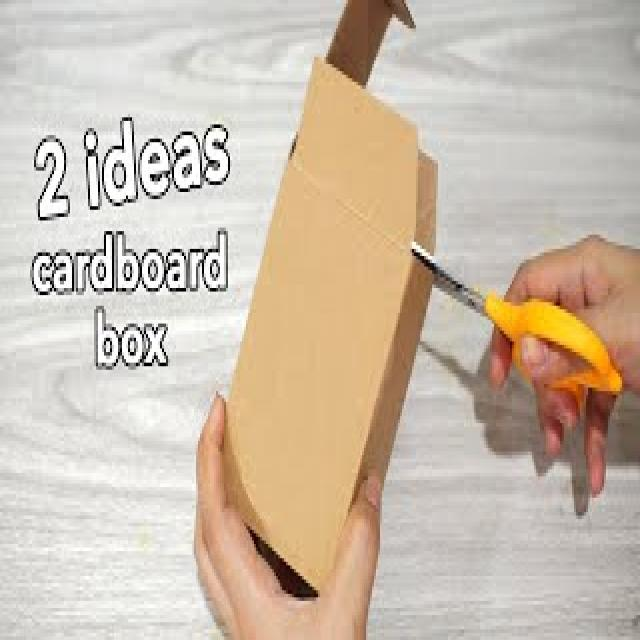cardboard_box: (187, 27, 458, 627)
